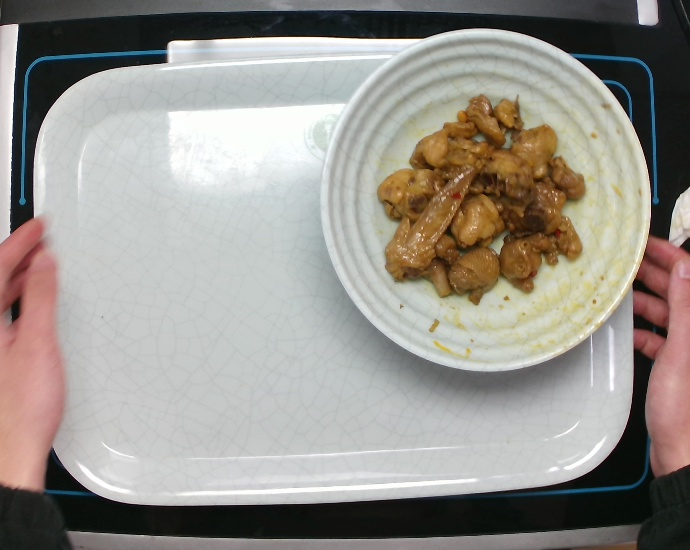JYsf-Da_Tang_Wan: (309, 22, 657, 380)
